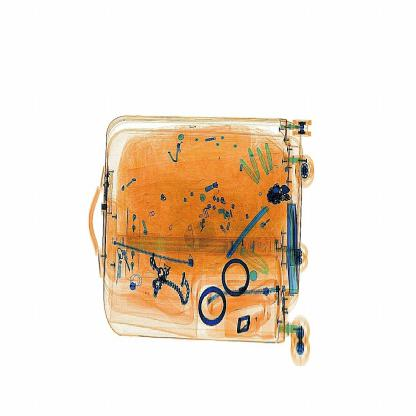pliers: (225, 193, 273, 264)
